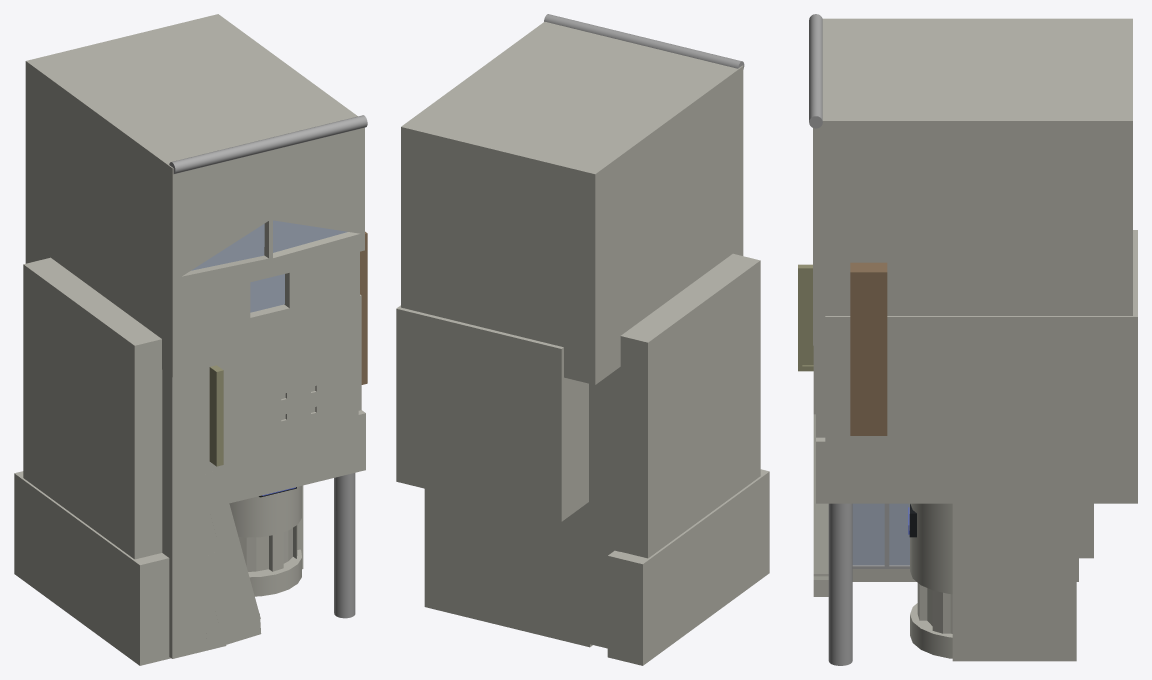
The model's file is ConvenienceStore.fbx.
3 views of the same model, side by side, from view 1: azimuth 30°, elevation 25°; view 2: azimuth 150°, elevation 25°; view 3: azimuth 270°, elevation 25° (orthographic). The views are drawn at different scales.
Visible parts, largest first — view 1: pCube26, pCube28, pCube27, pCube29, pCube3, pCube7, pCylinder2, pCylinder3, pCylinder5, pCube39, pCylinder4, pCube17 (+3 smaller); view 2: pCube26, pCube28, pCube27, pCube29, pCube1, pCube3, pCylinder5; view 3: pCube26, pCube27, pCube1, pCube11, pCylinder2, pCylinder3, pCube40, pCube7, pCube17, pCylinder5, pCylinder4, pCylinder1 (+2 smaller).
Boxes of the visible parts, x1,y1,x2,y2 form: pCube26: [25, 14, 364, 377]; pCube28: [23, 257, 162, 559]; pCube27: [226, 294, 365, 503]; pCube29: [14, 471, 170, 665]; pCube3: [162, 364, 226, 658]; pCube7: [200, 467, 261, 650]; pCylinder2: [334, 473, 355, 618]; pCylinder3: [229, 486, 301, 537]; pCylinder5: [169, 115, 367, 173]; pCube39: [191, 220, 347, 270]; pCylinder4: [238, 525, 297, 571]; pCube17: [209, 365, 223, 466]; pCube26: [401, 21, 743, 384]; pCube28: [620, 253, 760, 558]; pCube27: [396, 305, 588, 521]; pCube29: [607, 469, 769, 665]; pCube1: [424, 489, 592, 647]; pCube3: [566, 367, 620, 648]; pCylinder5: [544, 14, 744, 69]; pCube26: [813, 18, 1132, 345]; pCube27: [816, 230, 1137, 503]; pCube1: [952, 474, 1076, 661]; pCube11: [850, 262, 887, 435]; pCylinder2: [828, 503, 852, 665]; pCylinder3: [910, 503, 952, 594]; pCube40: [852, 503, 909, 565]; pCube7: [813, 414, 828, 596]; pCube17: [798, 264, 813, 371]; pCylinder5: [809, 14, 822, 128]; pCylinder4: [917, 583, 952, 633]; pCylinder1: [910, 603, 952, 658].
Bounding box in the file's own units: 15.29 × 30.51 × 17.11.
